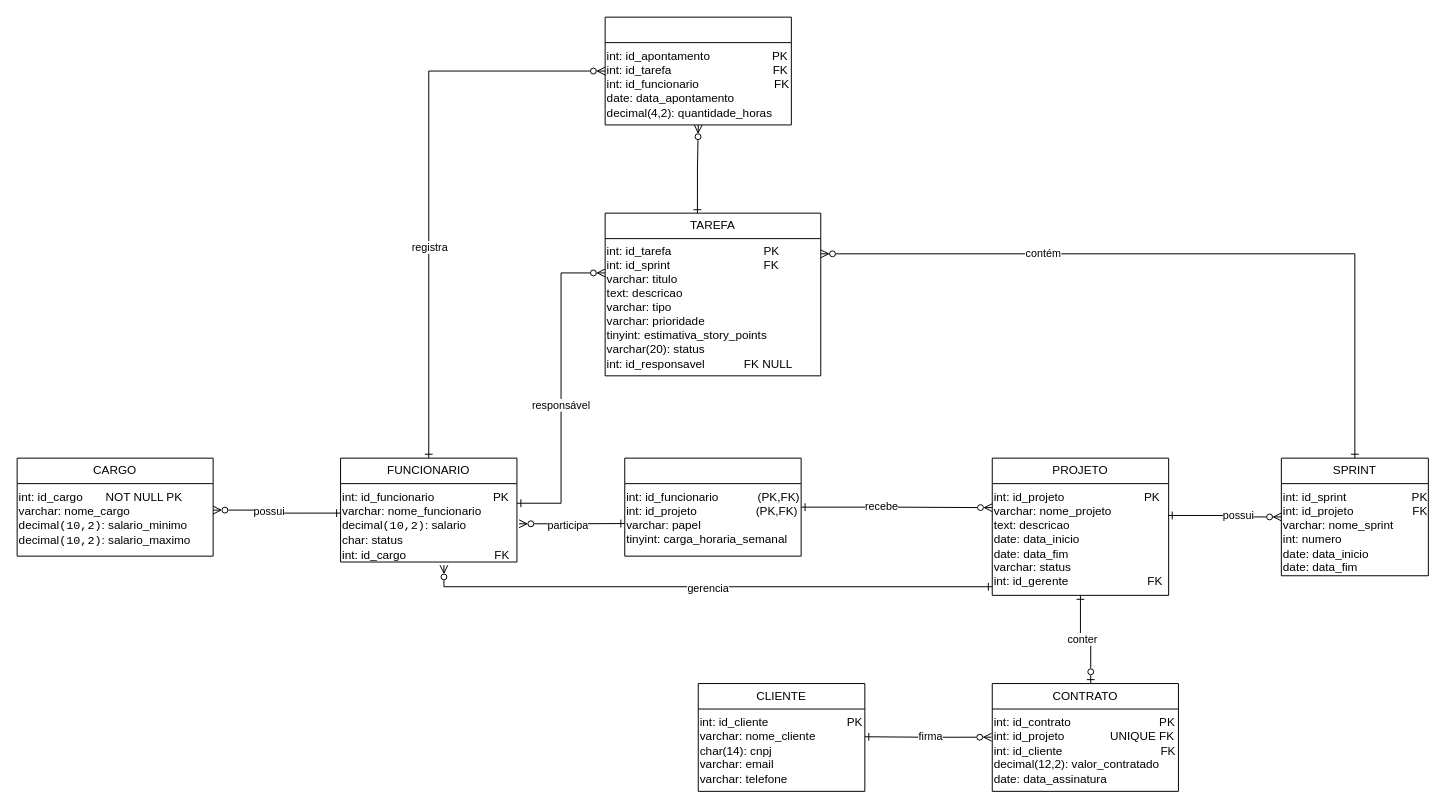
Some shapes in this 1446 by 809 pixel diagram are drawn without their labels. Here are the shapes that lost their labels. From the top down, the box of each, then its label:
(604, 16, 791, 125): APONTAMENTO_HORAS
(624, 457, 801, 556): FUNCIONARIO_PROJETO
